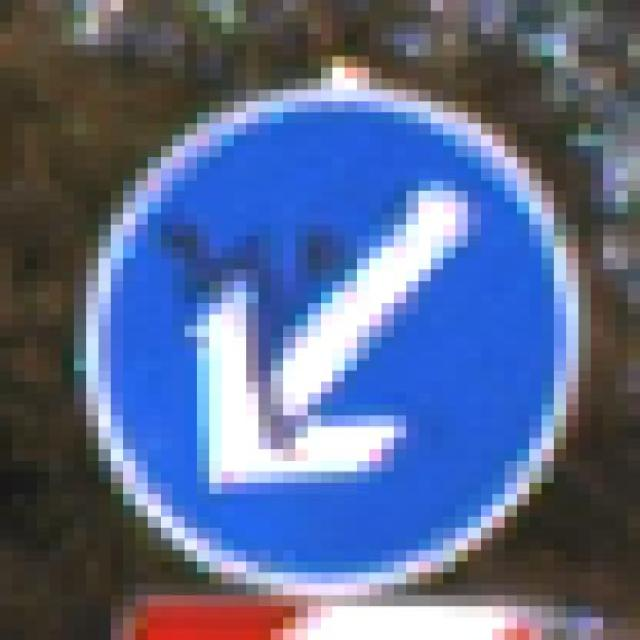Keep-Left: (49, 55, 603, 596)
